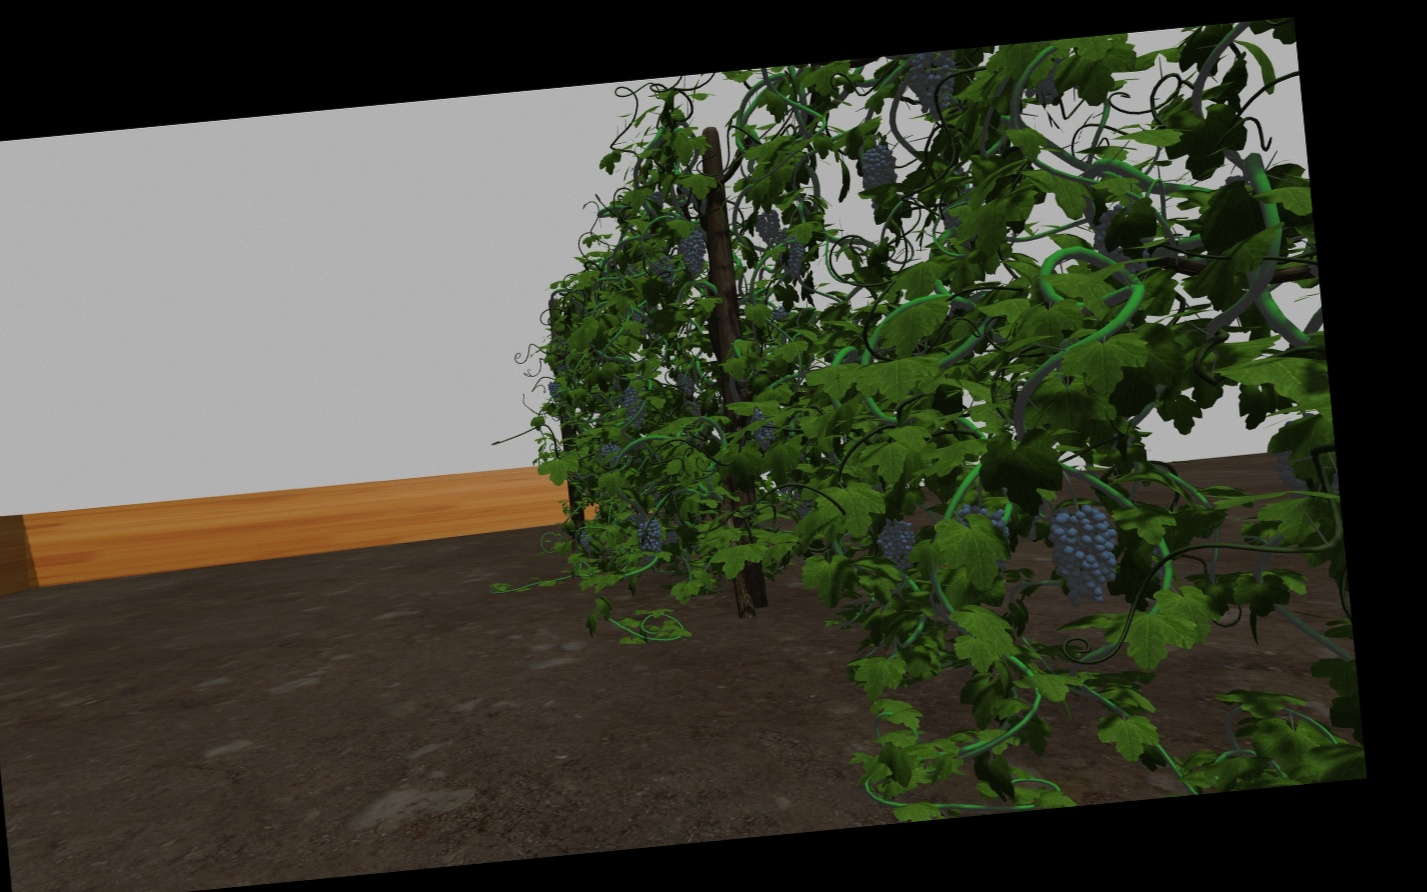grape: (1050, 503, 1119, 612), (905, 58, 960, 118), (876, 519, 917, 573), (860, 140, 898, 197), (680, 226, 707, 275), (779, 230, 804, 280), (636, 516, 666, 555), (622, 383, 647, 428), (752, 412, 776, 451), (755, 208, 781, 241), (653, 255, 674, 281), (547, 379, 561, 397)
